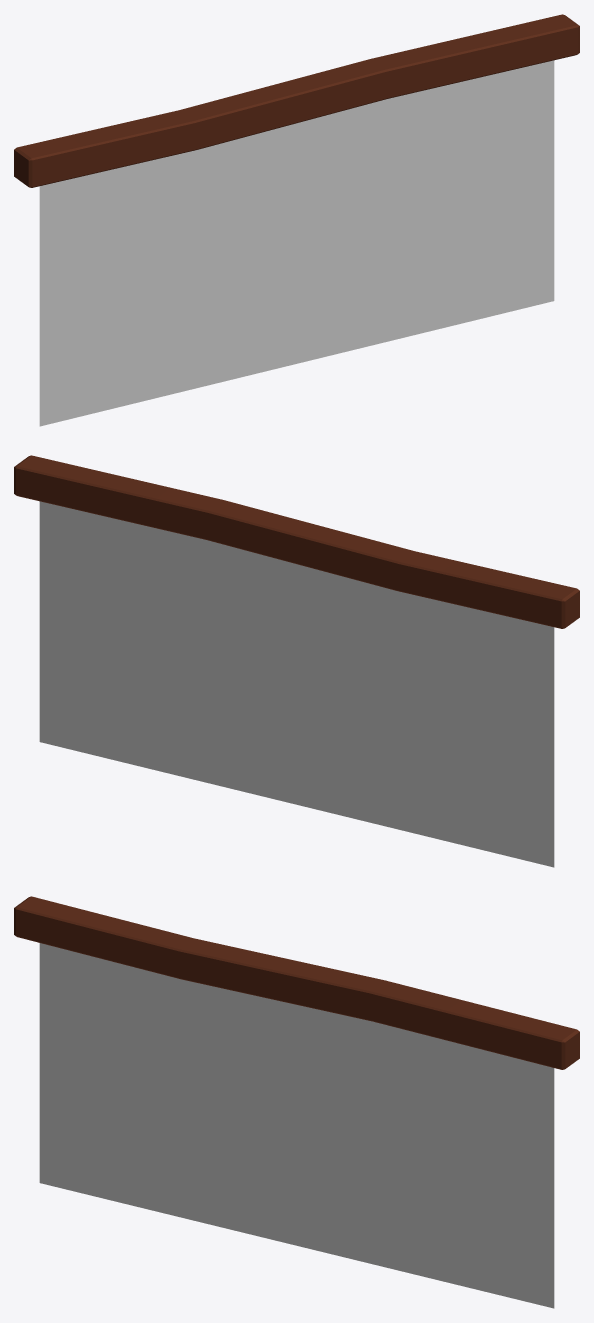
Rendered from Wall_Long.fbx.
3 renders of one model, top to bottom at view 1: azimuth 30°, elevation 25°; view 2: azimuth 150°, elevation 25°; view 3: azimuth 330°, elevation 25°, orthographic.
Parts seen in each view (by area): view 1: Wall_Large, Beam; view 2: Wall_Large, Beam; view 3: Wall_Large, Beam.
Part boxes in pixels (<box>): Wall_Large: <box>39,60,554,426</box>; Beam: <box>14,14,579,187</box>; Wall_Large: <box>39,501,554,867</box>; Beam: <box>14,455,579,628</box>; Wall_Large: <box>39,943,554,1308</box>; Beam: <box>14,896,579,1069</box>.
Size of the model in its own units: 0.0429 by 0.0208 by 0.00221.
